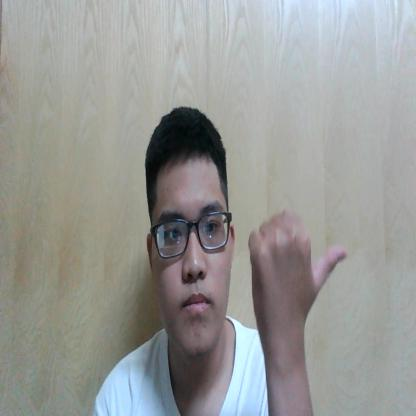left: (245, 205, 351, 332)
